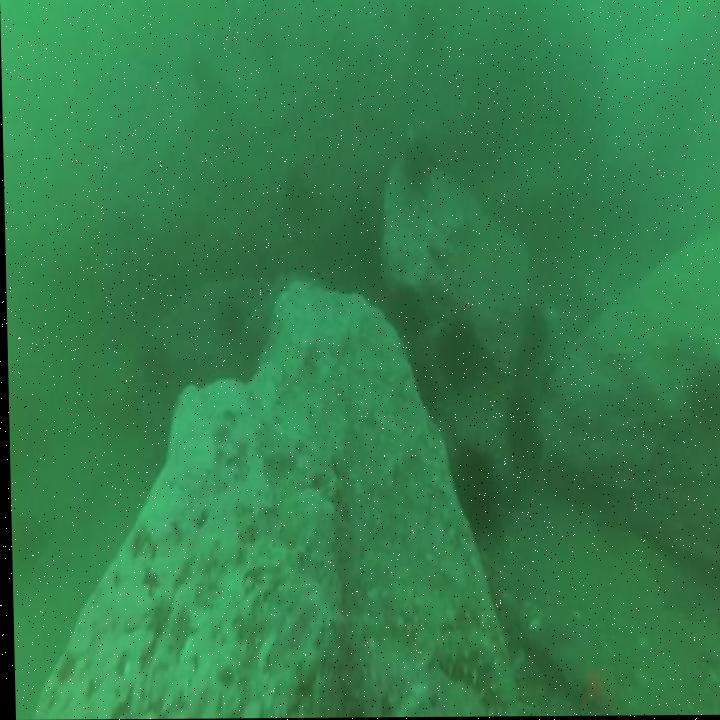echinus: (449, 443, 491, 532), (435, 324, 477, 391), (386, 286, 424, 345), (403, 138, 433, 184), (521, 304, 546, 354), (281, 172, 307, 220)
holothurian: (435, 628, 515, 718)
starfish: (568, 658, 611, 717)
